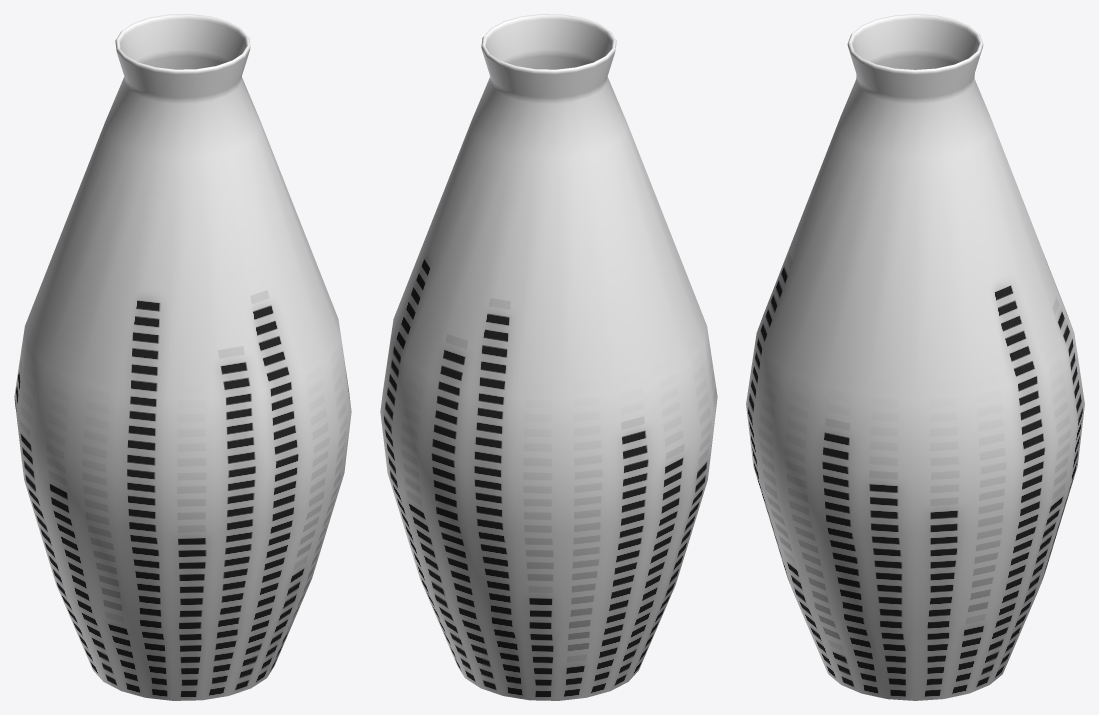
File: Vase02_2.FBX
The picture shows the model from 3 angles, left to right: view 1: azimuth 30°, elevation 25°; view 2: azimuth 150°, elevation 25°; view 3: azimuth 270°, elevation 25°; orthographic projection.
Visible parts, largest first — view 1: Vase02_2; view 2: Vase02_2; view 3: Vase02_2.
Boxes of the visible parts, bbox=[...] form: Vase02_2: bbox=[14, 14, 351, 700]; Vase02_2: bbox=[380, 14, 717, 700]; Vase02_2: bbox=[746, 14, 1084, 700].
Bounding box in the file's own units: 22.12 × 44.66 × 22.12.
